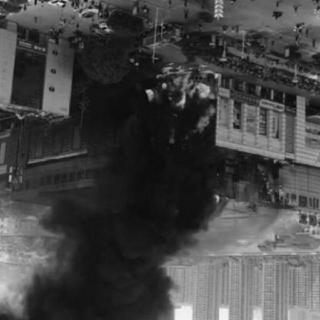Fire: (267, 157, 293, 175)
